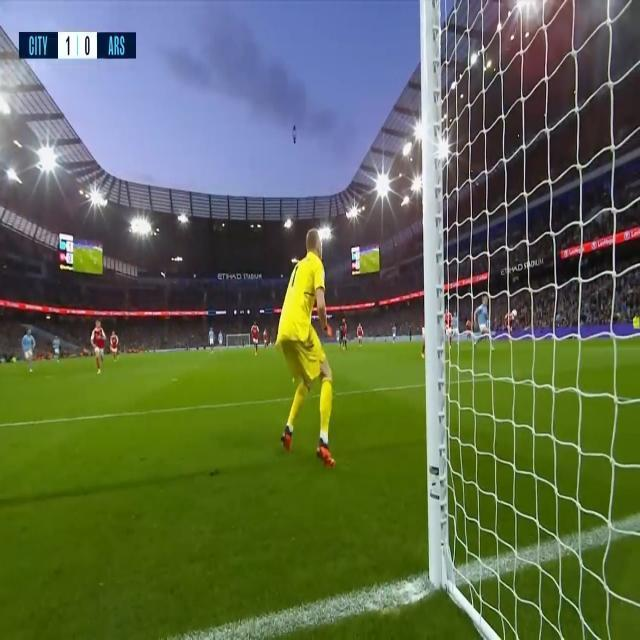goalkeeper: (268, 237, 372, 506)
